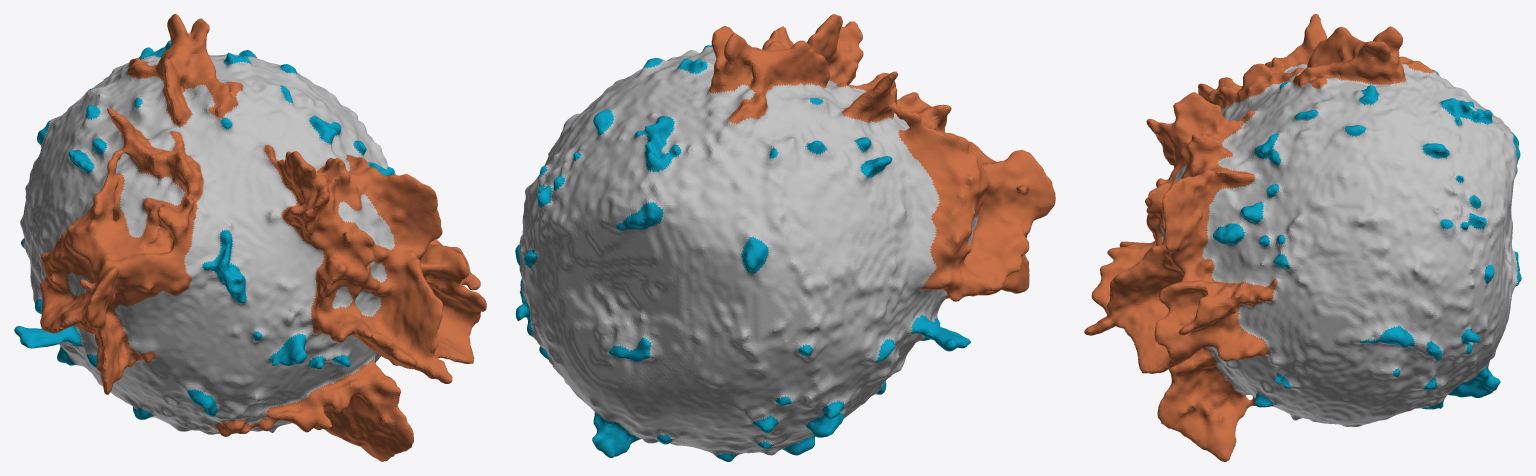
3 renders of one model, left to right at view 1: azimuth 30°, elevation 25°; view 2: azimuth 150°, elevation 25°; view 3: azimuth 270°, elevation 25°, orthographic. The views are drawn at different scales.
Size of the model in its own units: 168 by 170 by 176.
